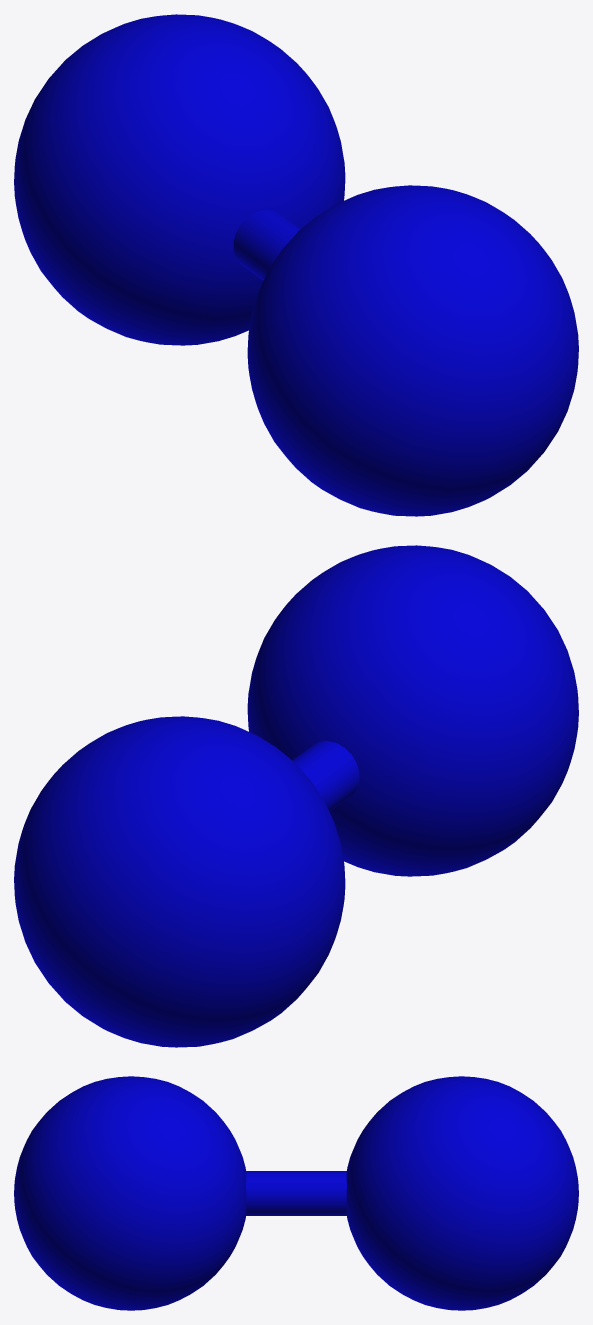
The picture shows the model from 3 angles, top to bottom: view 1: azimuth 30°, elevation 25°; view 2: azimuth 150°, elevation 25°; view 3: azimuth 270°, elevation 25°; orthographic projection. The views are drawn at different scales.
Visible parts, largest first — view 1: N2.001; view 2: N2.001; view 3: N2.001.
Boxes of the visible parts, x1,y1,x2,y2 form: N2.001: [14, 14, 578, 516]; N2.001: [14, 545, 578, 1047]; N2.001: [14, 1076, 578, 1310].
Bounding box in the file's own units: 0.46 × 0.46 × 1.11.
